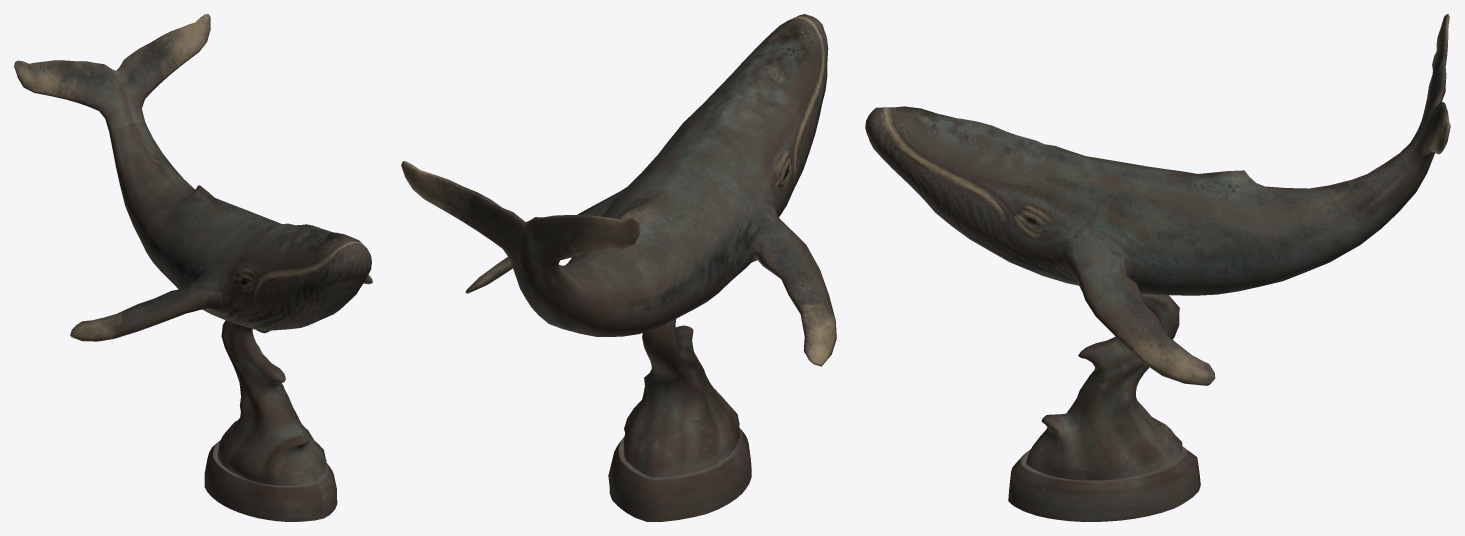
File: whale.jpg-C2Yzqy5M.glb
The picture shows the model from 3 angles, left to right: view 1: azimuth 30°, elevation 25°; view 2: azimuth 150°, elevation 25°; view 3: azimuth 270°, elevation 25°; orthographic projection. The views are drawn at different scales.
Parts seen in each view (by area): view 1: bronze_whale_statue; view 2: bronze_whale_statue; view 3: bronze_whale_statue.
Boxes of the visible parts, <box> form: bronze_whale_statue: <box>14,14,372,521</box>; bronze_whale_statue: <box>401,14,836,521</box>; bronze_whale_statue: <box>865,14,1450,521</box>.
Bounding box in the file's own units: 0.932 × 1.07 × 1.37.
Materials: 1 (1 with a texture image).
